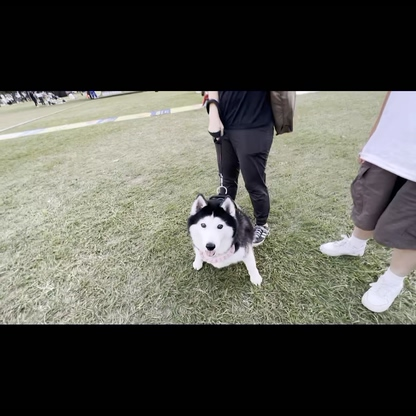husky: (185, 189, 265, 290)
